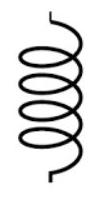inductor: (14, 10, 90, 180)
